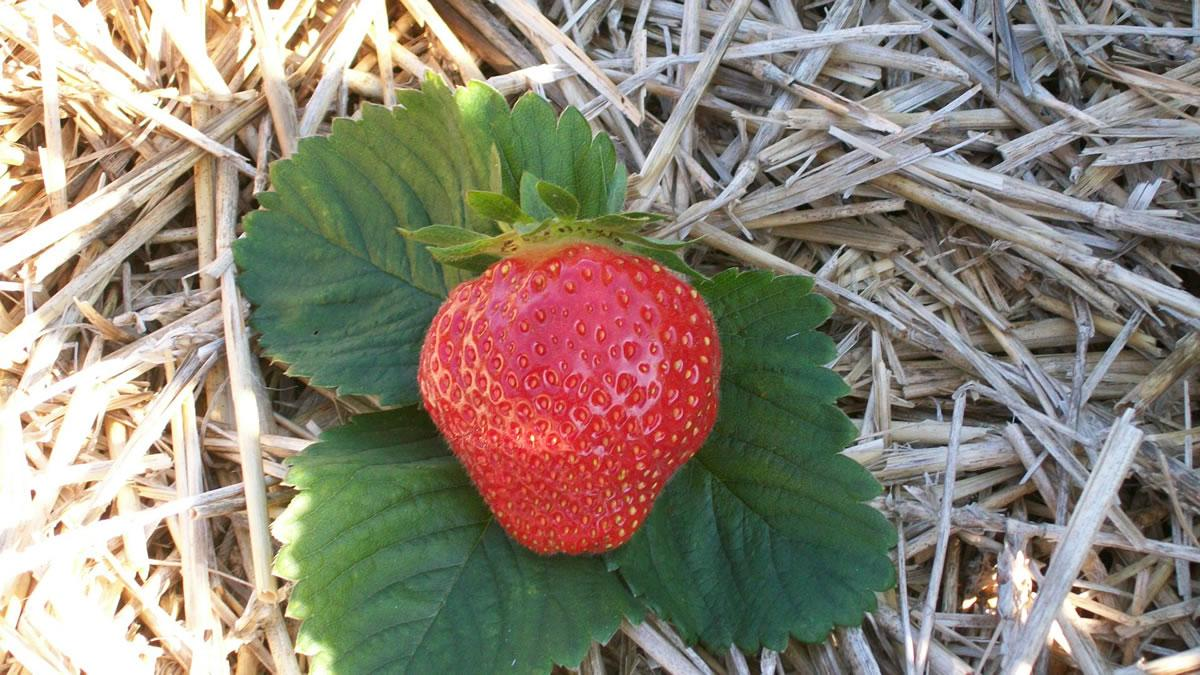ripe_strawberry: (415, 197, 734, 569)
